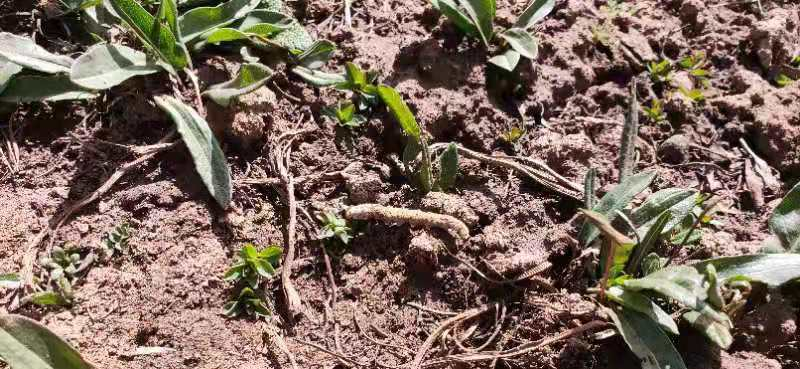Chongcao: (347, 204, 470, 238)
